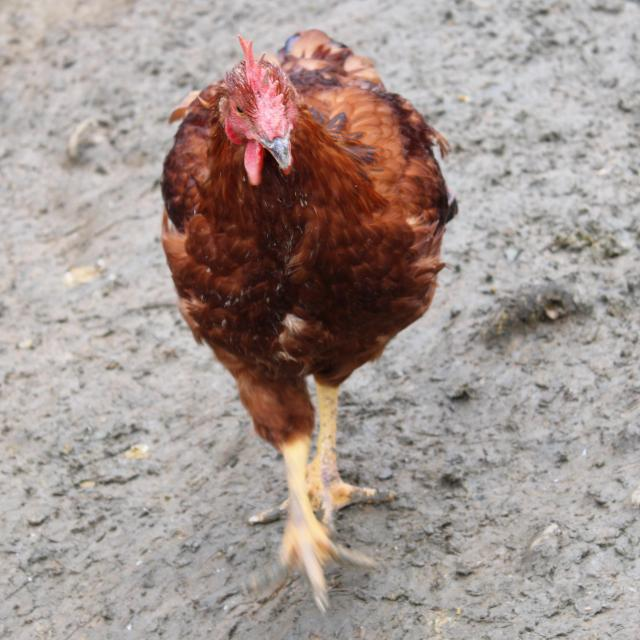cook: (72, 3, 489, 622)
